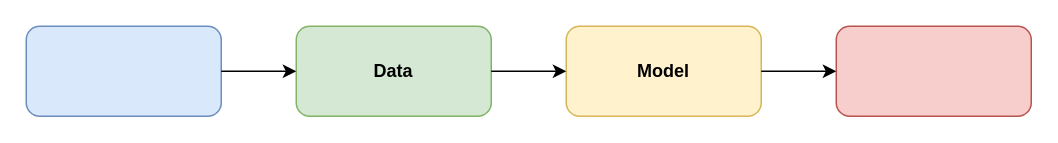
Some shapes in this 1058 by 143 pixel diagram are drawn without their labels. The shapes that lost their labels are listed below. From the top down, each one's centre as x and y in pixels, then its label:
At point (123, 70): "Problem".
At point (933, 70): "Validation".
